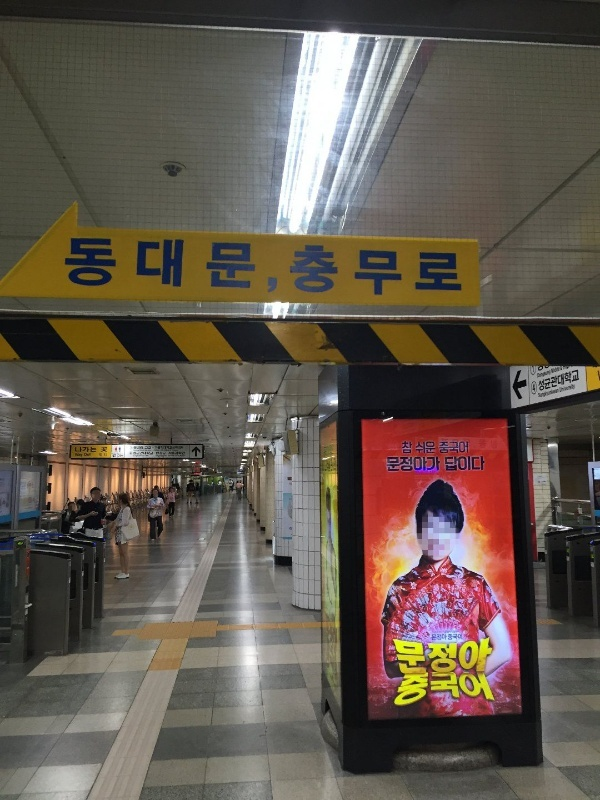text: (65, 236, 80, 296), (81, 236, 96, 296), (97, 236, 112, 296), (113, 236, 128, 296), (129, 236, 144, 296), (145, 236, 160, 296), (161, 236, 176, 296), (177, 236, 192, 296), (193, 236, 208, 296), (209, 236, 224, 296), (225, 236, 240, 296), (241, 236, 256, 296), (257, 236, 272, 296), (289, 242, 304, 301), (305, 242, 320, 301), (321, 242, 336, 301), (337, 242, 352, 301), (353, 242, 368, 301), (369, 242, 384, 301), (385, 242, 400, 301), (401, 242, 416, 301), (417, 242, 432, 301), (433, 242, 448, 301), (449, 242, 464, 301), (401, 639, 416, 677), (417, 639, 432, 677), (433, 639, 448, 677), (449, 639, 464, 677), (465, 639, 480, 677), (481, 639, 495, 677), (417, 673, 432, 707), (433, 673, 448, 707), (449, 673, 464, 707), (465, 673, 480, 707), (481, 673, 496, 707), (273, 236, 281, 296), (402, 673, 416, 707), (545, 368, 560, 393), (561, 368, 576, 393), (449, 455, 464, 473), (465, 455, 480, 473), (393, 639, 400, 677), (401, 456, 416, 473), (417, 456, 432, 473), (386, 456, 400, 473), (417, 441, 432, 456), (545, 384, 560, 399), (561, 384, 576, 399), (449, 441, 464, 455), (402, 441, 416, 456), (545, 365, 560, 379), (439, 441, 448, 455), (539, 368, 544, 393), (81, 446, 96, 454), (433, 634, 448, 642), (433, 456, 440, 473), (449, 634, 463, 642), (533, 383, 544, 393), (532, 365, 544, 374), (161, 444, 176, 451), (537, 365, 544, 379), (538, 384, 544, 399), (97, 446, 108, 454), (577, 368, 580, 393), (444, 455, 448, 473), (481, 455, 485, 473), (133, 451, 144, 457), (63, 236, 64, 296), (81, 452, 91, 458), (465, 242, 466, 301), (168, 450, 176, 457), (177, 450, 185, 457), (134, 446, 144, 451), (177, 444, 184, 451), (74, 446, 80, 454), (145, 451, 153, 457), (433, 441, 436, 456), (465, 441, 468, 455), (154, 444, 160, 451), (74, 452, 80, 458), (161, 451, 167, 457), (155, 451, 160, 457), (145, 446, 151, 451), (561, 365, 563, 379)
